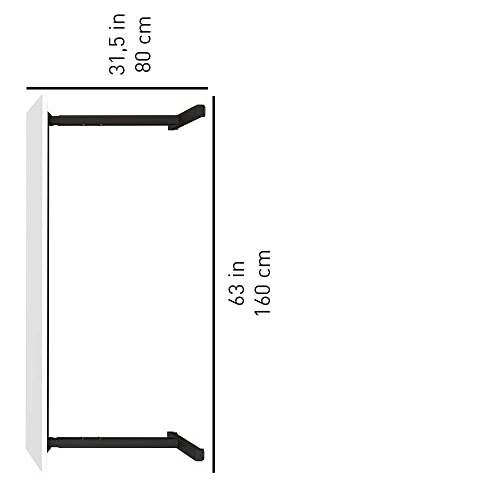091: (254, 285, 270, 315)
0g: (135, 52, 151, 72)
wo: (139, 17, 151, 44)
